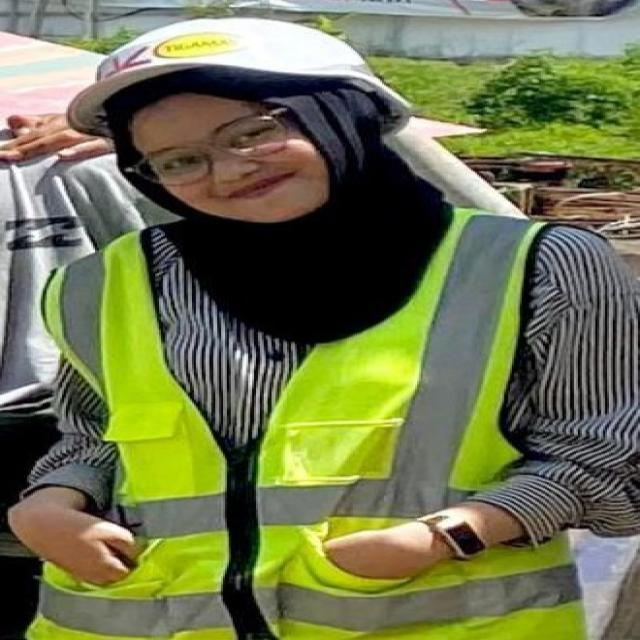safetyhelmet: (64, 18, 418, 190)
